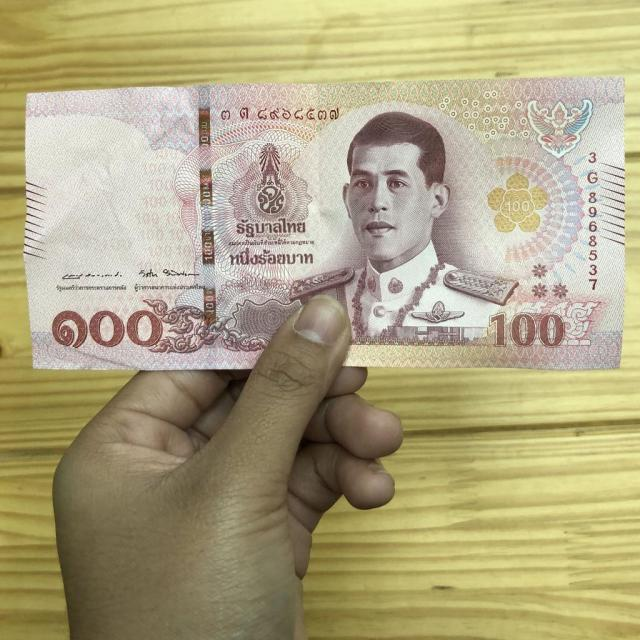THAI100: (24, 77, 624, 370)
